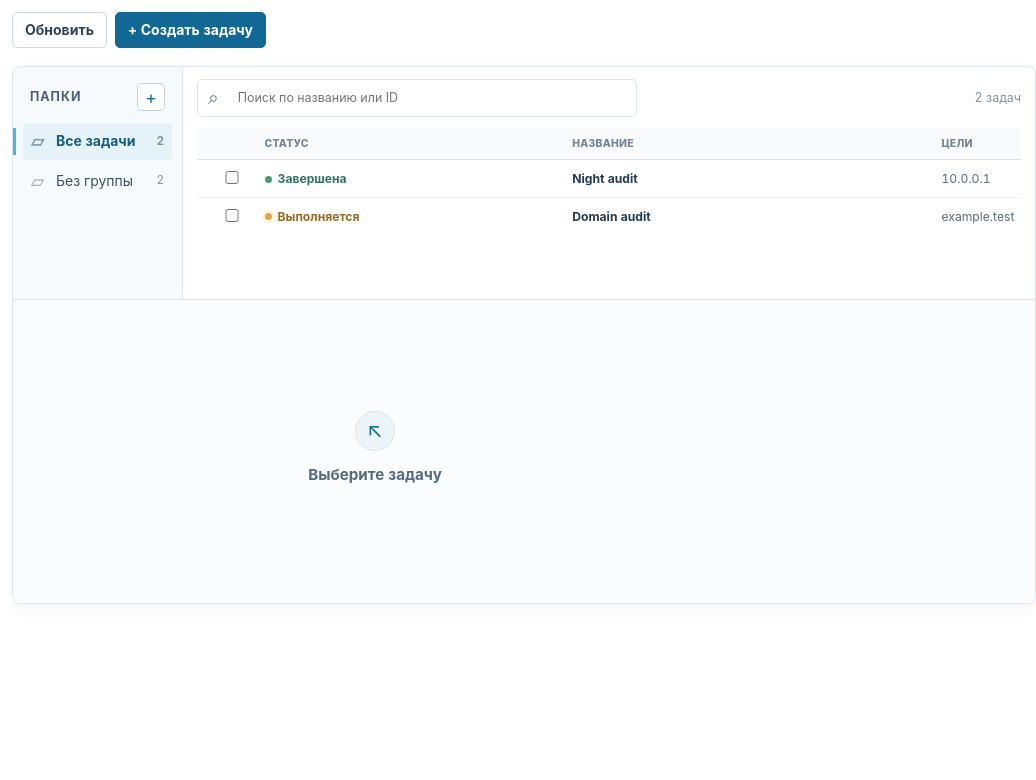
it: task workspace › searches by task name or ID and exposes no extra filters
The width and height of the screenshot is (1036, 780).
Expected: the text "Night audit" is shown, [572,171,638,186]
In the search field named "Поиск по задачам": [426, 98] box [227,80,626,116], type "task-2"
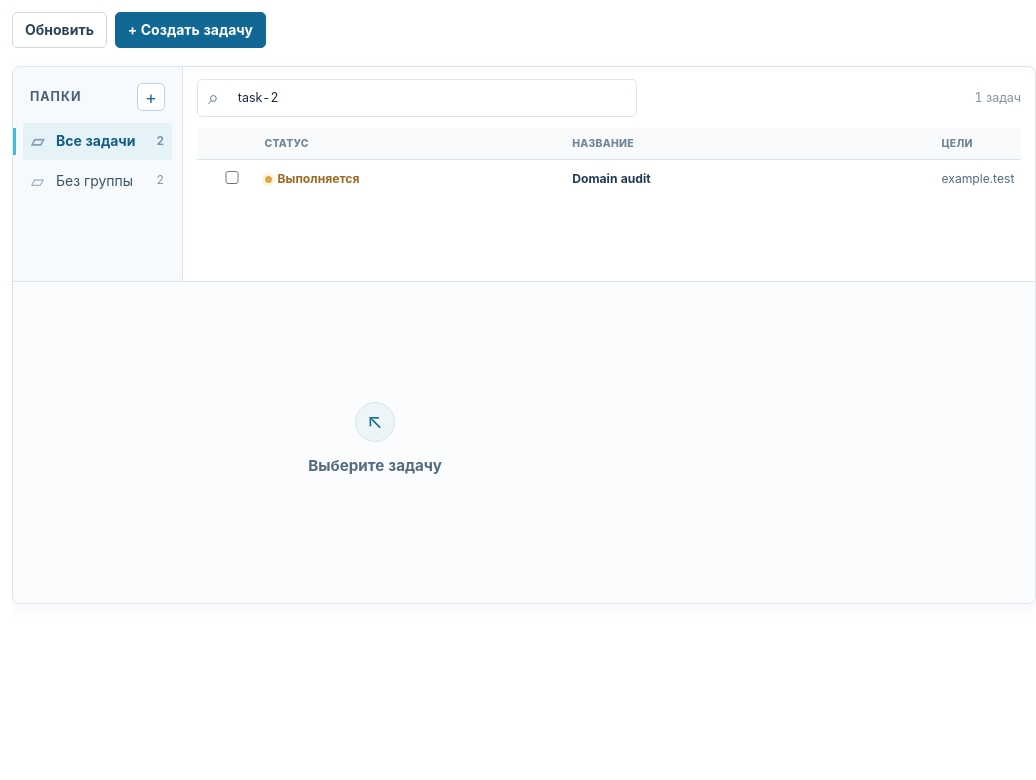
Expected: the text "Domain audit" is shown, [572,171,651,186]
Expected: the text "Night audit" is gone
